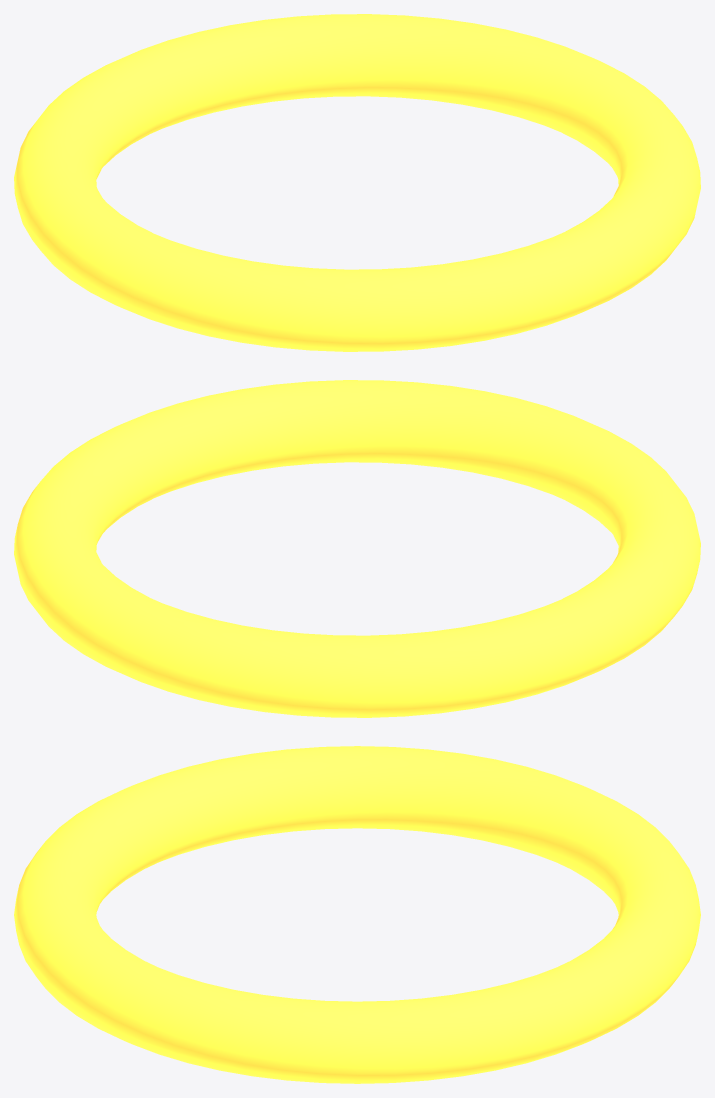
Rendered from halo.glb.
3 renders of one model, top to bottom at view 1: azimuth 30°, elevation 25°; view 2: azimuth 150°, elevation 25°; view 3: azimuth 270°, elevation 25°, orthographic.
Parts seen in each view (by area): view 1: halo_Halo; view 2: halo_Halo; view 3: halo_Halo.
Boxes of the visible parts, <box> form: halo_Halo: <box>14,14,700,351</box>; halo_Halo: <box>14,380,700,717</box>; halo_Halo: <box>14,746,700,1083</box>.
Bounding box in the file's own units: 0.367 × 0.044 × 0.367.
